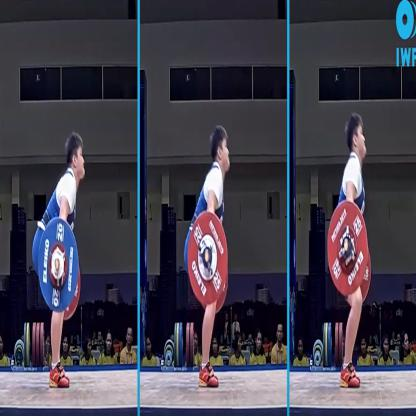Barbell: (34, 213, 87, 325), (181, 207, 233, 311), (324, 195, 372, 302)
